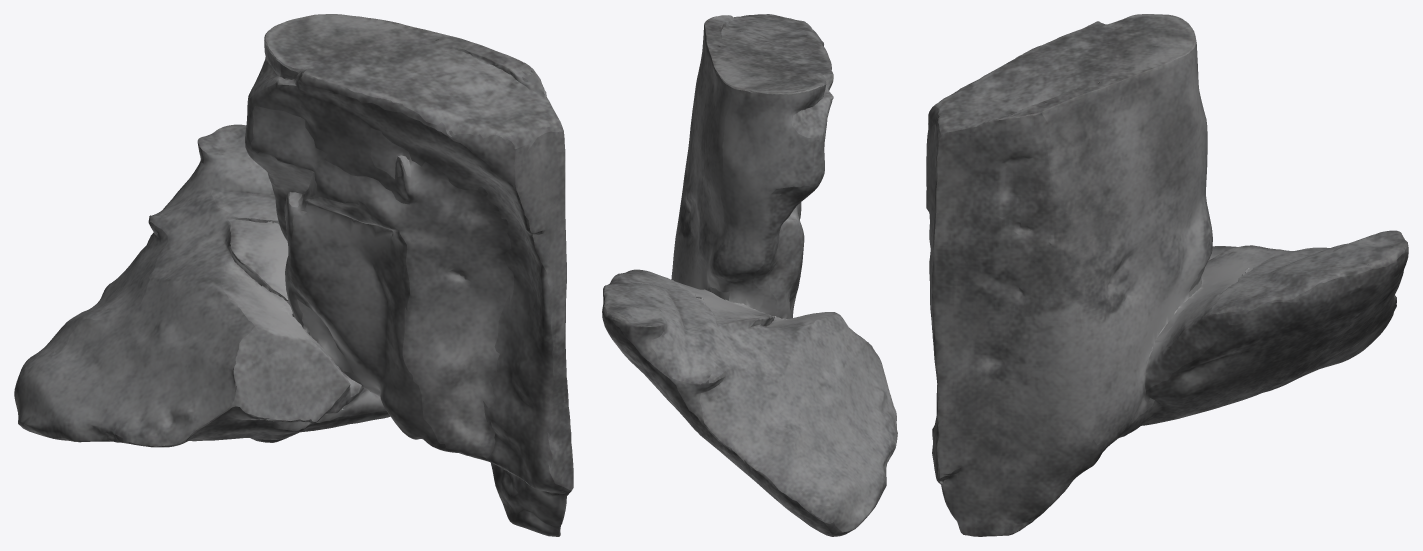
3 views of the same model, side by side, from view 1: azimuth 30°, elevation 25°; view 2: azimuth 150°, elevation 25°; view 3: azimuth 270°, elevation 25° (orthographic). The views are drawn at different scales.
Visible parts, largest first — view 1: world; view 2: world; view 3: world.
Boxes of the visible parts, x1,y1,x2,y2 form: world: (14,14,573,536); world: (602,14,897,536); world: (926,14,1408,536).
Bounding box in the file's own units: 1.22 × 1.5 × 1.5.
Materials: 1 (1 with a texture image).
